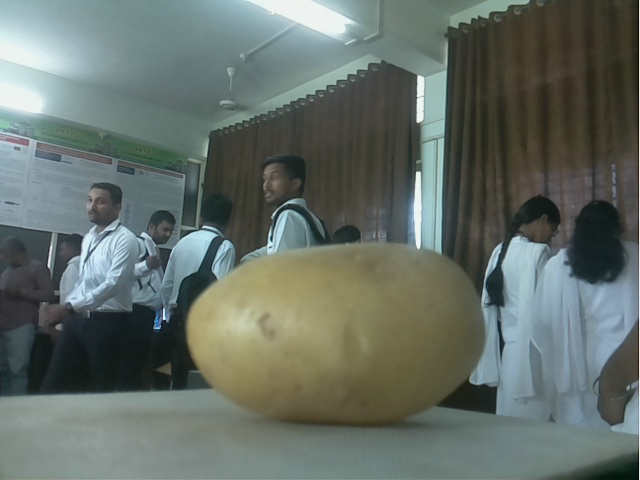Potato: (183, 242, 487, 424)
